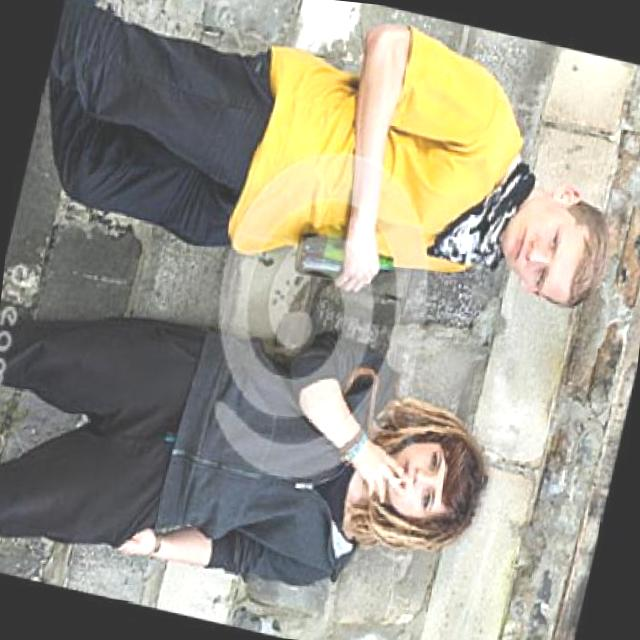smoke: (384, 472, 408, 493)
